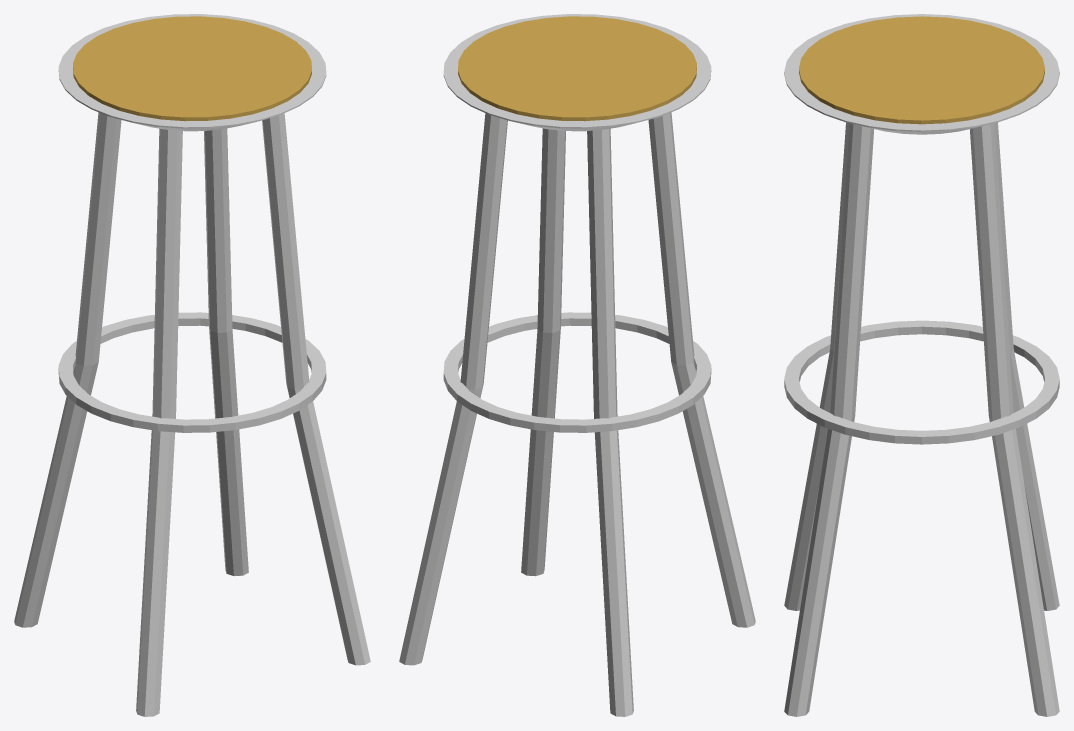
Rendered from bar_stool.dae.
3 views of the same model, side by side, from view 1: azimuth 30°, elevation 25°; view 2: azimuth 150°, elevation 25°; view 3: azimuth 270°, elevation 25° (orthographic). The views are drawn at different scales.
Parts seen in each view (by area): view 1: barstool_Cylinder, barstool_Cylinder_005, barstool_Cylinder_006, barstool_Cylinder_004, barstool, barstool_leg4; view 2: barstool_Cylinder, barstool_Cylinder_004, barstool_leg4, barstool_Cylinder_005, barstool, barstool_Cylinder_006; view 3: barstool_Cylinder, barstool_leg4, barstool_Cylinder_006, barstool, barstool_Cylinder_004, barstool_Cylinder_005.
Part boxes in pixels (x1,y1,x2,y2): barstool_Cylinder: [73, 16, 311, 121]; barstool_Cylinder_005: [136, 128, 182, 716]; barstool_Cylinder_006: [262, 113, 370, 665]; barstool_Cylinder_004: [14, 112, 121, 627]; barstool: [58, 14, 326, 432]; barstool_leg4: [204, 128, 248, 576]; barstool_Cylinder: [458, 16, 696, 121]; barstool_Cylinder_004: [587, 128, 633, 716]; barstool_leg4: [399, 113, 507, 665]; barstool_Cylinder_005: [648, 112, 755, 627]; barstool: [443, 14, 711, 432]; barstool_Cylinder_006: [521, 128, 565, 576]; barstool_Cylinder: [799, 16, 1044, 124]; barstool_leg4: [969, 123, 1059, 716]; barstool_Cylinder_006: [784, 123, 874, 716]; barstool: [784, 14, 1059, 444]; barstool_Cylinder_004: [994, 122, 1059, 610]; barstool_Cylinder_005: [784, 122, 849, 610].
Size of the model in its own units: 0.3303 by 0.3303 by 0.78.
